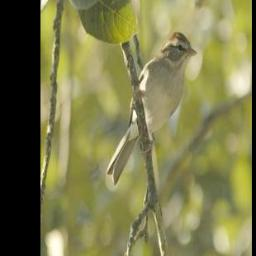Sparrow: (107, 28, 198, 186)
